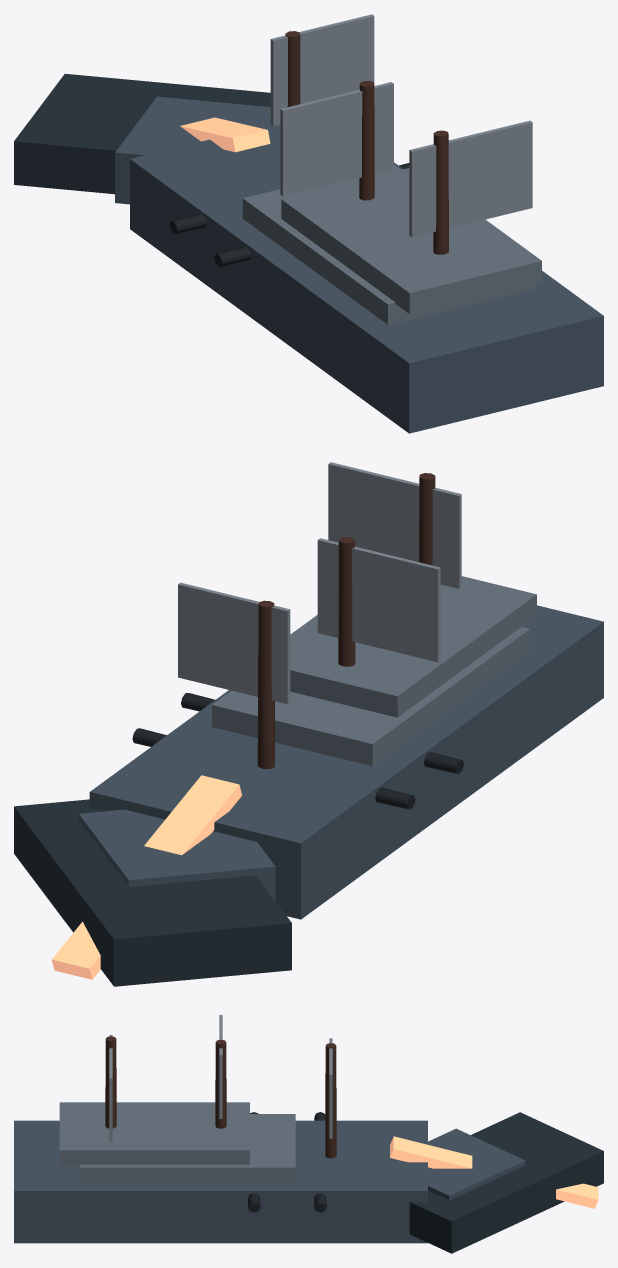
File: ship_main_58.glb
3 renders of one model, top to bottom at view 1: azimuth 30°, elevation 25°; view 2: azimuth 150°, elevation 25°; view 3: azimuth 270°, elevation 25°, orthographic. The views are drawn at different scales.
Parts seen in each view (by area): view 1: Hull, Deck_1, WedgeRam, Sail_2, Sail_1, Sail_0, Deck_0, Bow, ProwIdentity, Mast_2, Mast_1, Mast_0; view 2: Hull, WedgeRam, Deck_1, Deck_0, Sail_1, Sail_2, Sail_0, Bow, ProwIdentity, Mast_0, Mast_1, Mast_2; view 3: Hull, WedgeRam, Deck_1, Deck_0, Bow, ProwIdentity, Mast_0, Mast_2, Mast_1, Sail_2, Sail_0, Sail_1.
Boxes of the visible parts, <box> form: Hull: <box>130,124,603,433</box>; Deck_1: <box>281,168,541,314</box>; WedgeRam: <box>14,73,270,194</box>; Sail_2: <box>409,120,532,237</box>; Sail_1: <box>280,82,393,196</box>; Sail_0: <box>270,14,374,126</box>; Deck_0: <box>242,165,535,324</box>; Bow: <box>115,96,270,204</box>; ProwIdentity: <box>180,117,270,152</box>; Mast_2: <box>433,130,448,254</box>; Mast_1: <box>359,81,374,200</box>; Mast_0: <box>285,31,300,106</box>; Hull: <box>89,605,603,919</box>; WedgeRam: <box>14,799,291,986</box>; Deck_1: <box>290,576,536,717</box>; Deck_0: <box>212,627,530,766</box>; Sail_1: <box>317,538,440,662</box>; Sail_2: <box>328,462,461,588</box>; Sail_0: <box>178,582,290,704</box>; Bow: <box>78,809,275,900</box>; ProwIdentity: <box>51,775,241,979</box>; Mast_0: <box>257,600,274,769</box>; Mast_1: <box>338,537,355,666</box>; Mast_2: <box>419,473,435,565</box>; Hull: <box>14,1120,427,1243</box>; WedgeRam: <box>409,1112,603,1253</box>; Deck_1: <box>59,1102,249,1165</box>; Deck_0: <box>80,1114,295,1182</box>; Bow: <box>428,1128,525,1200</box>; ProwIdentity: <box>390,1136,598,1208</box>; Mast_0: <box>325,1043,336,1158</box>; Mast_2: <box>105,1036,116,1128</box>; Mast_1: <box>215,1039,226,1128</box>; Sail_2: <box>109,1035,112,1142</box>; Sail_0: <box>329,1038,332,1138</box>; Sail_1: <box>219,1015,222,1118</box>.
Size of the model in its own units: 4.16 by 3 by 9.49.
